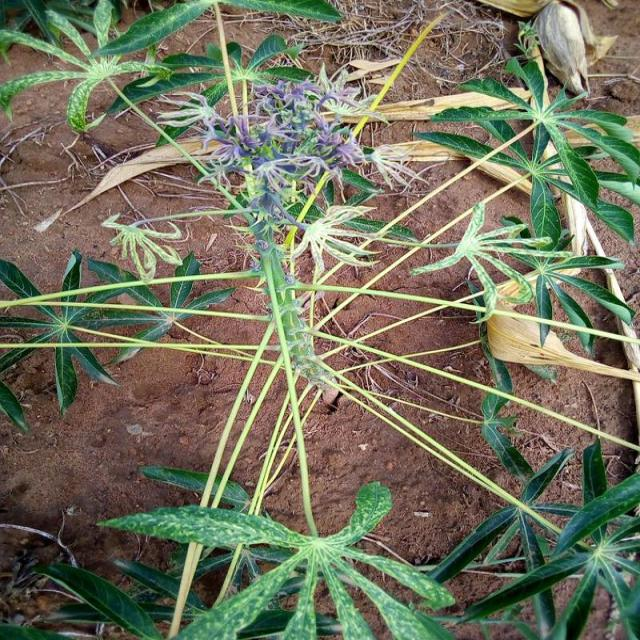cassava leaf: (0, 17, 638, 637)
